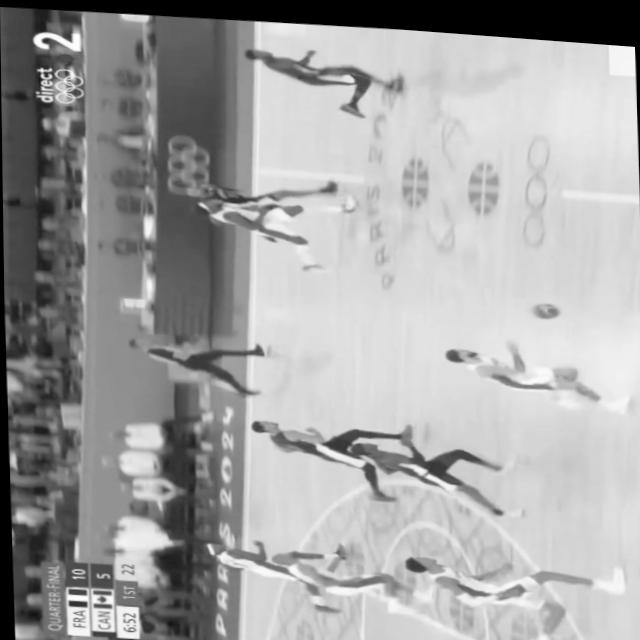ball_handler: (445, 286, 634, 398)
